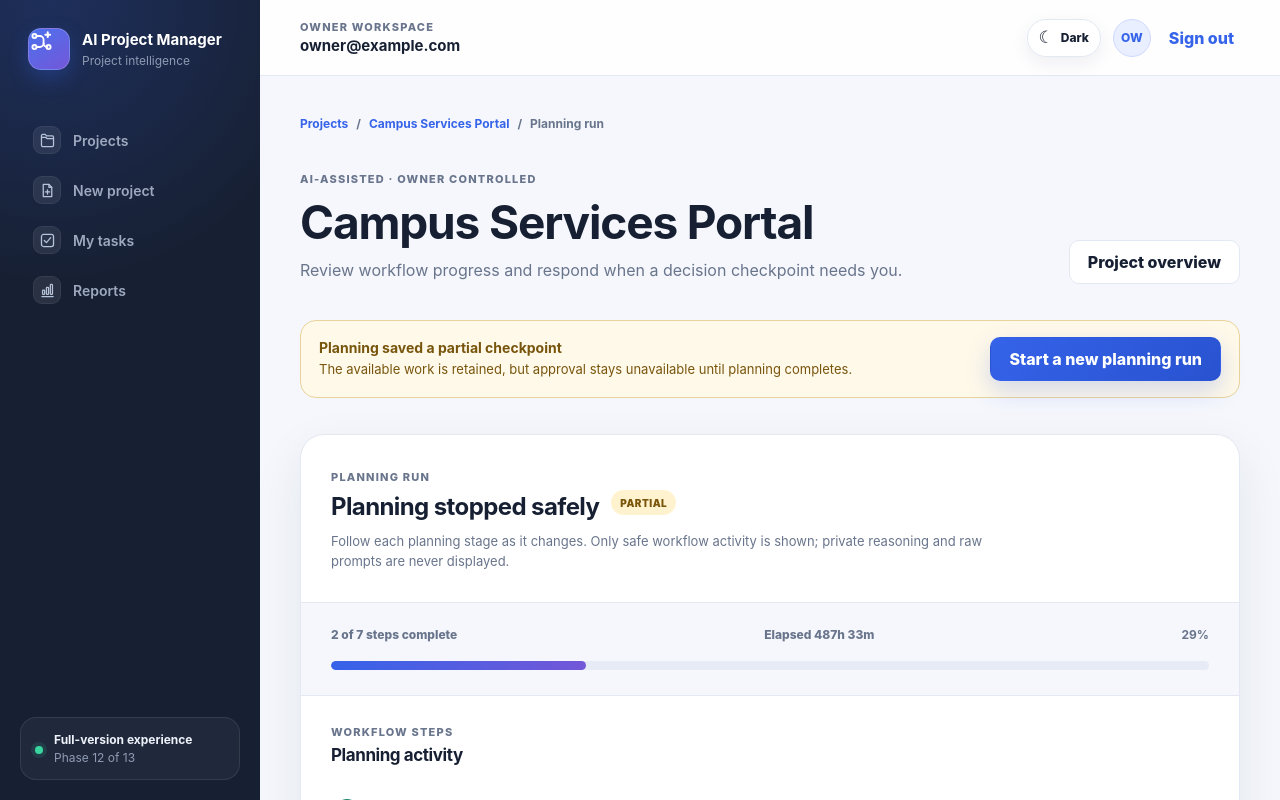
Scenario: planning and clarification experience › allows a terminal partial checkpoint to start a replacement run
Click the button "Start a new planning run": [1106, 359] box [990, 337, 1221, 381]
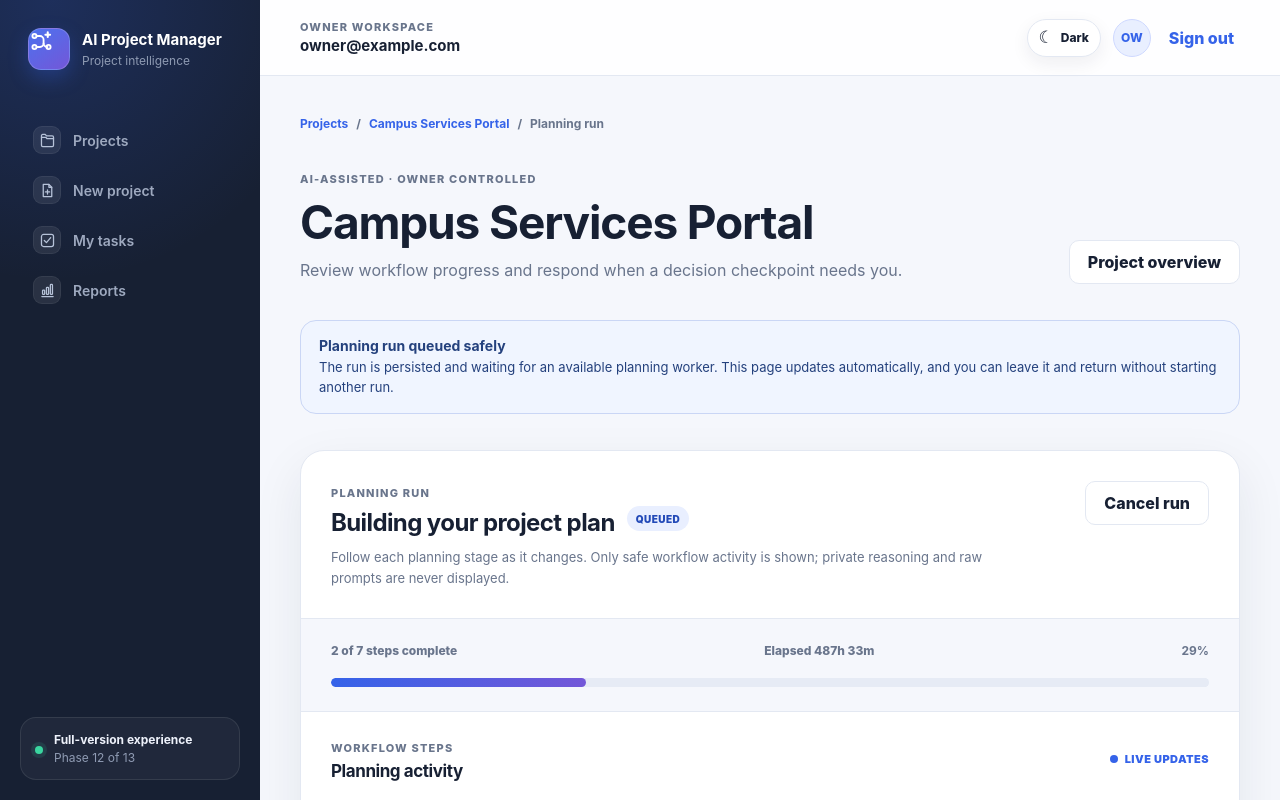
Result: the text "Planning run queued safely" is shown at [319, 337, 506, 354]
